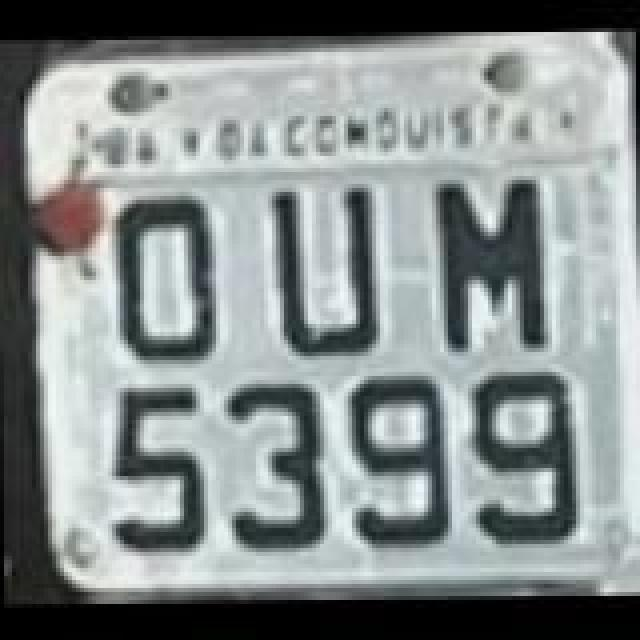3: (220, 386, 332, 558)
5: (110, 384, 210, 560)
9: (470, 364, 586, 548), (344, 370, 456, 550)
M: (436, 170, 556, 358)
O: (120, 190, 232, 370)
U: (268, 176, 388, 360)
